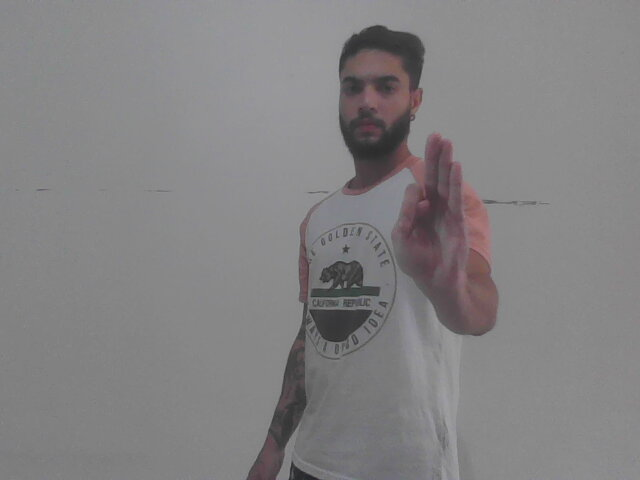t: (388, 131, 473, 292)
